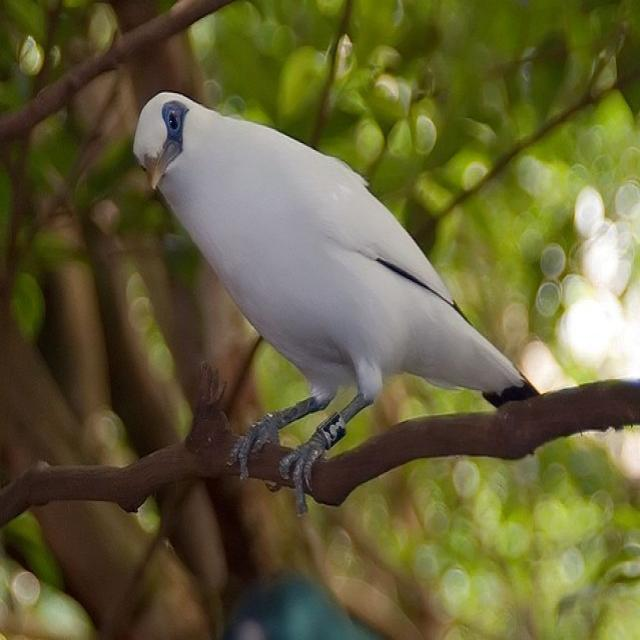Jalak Bali: (110, 65, 550, 512)
